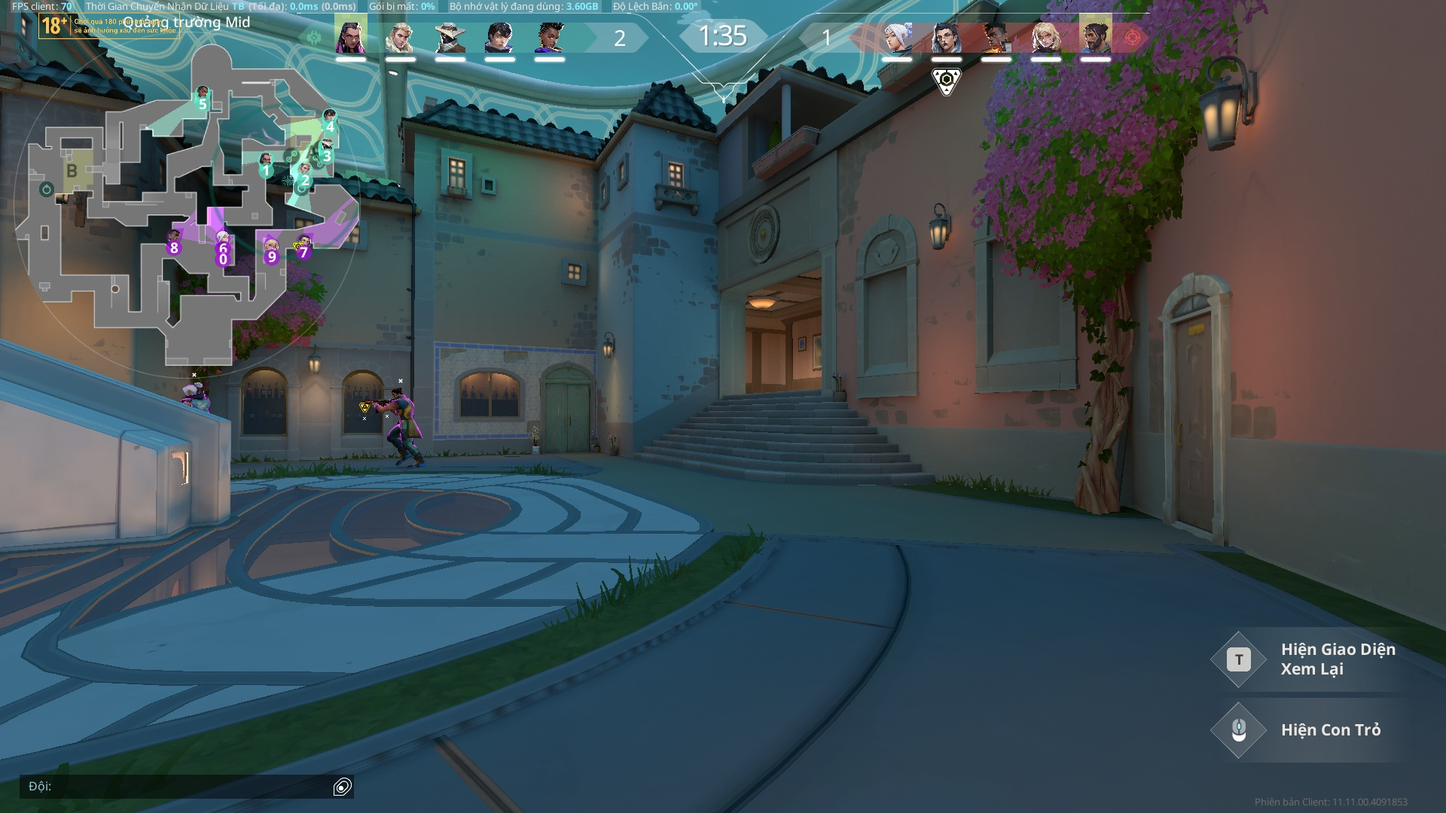body: (184, 392, 213, 413), (391, 395, 416, 419)
head: (389, 386, 404, 400), (180, 382, 197, 394)
